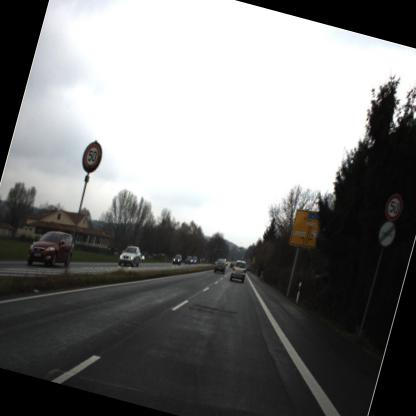other: (370, 218, 401, 258)
prohibitory: (74, 135, 107, 178), (378, 189, 408, 225)
